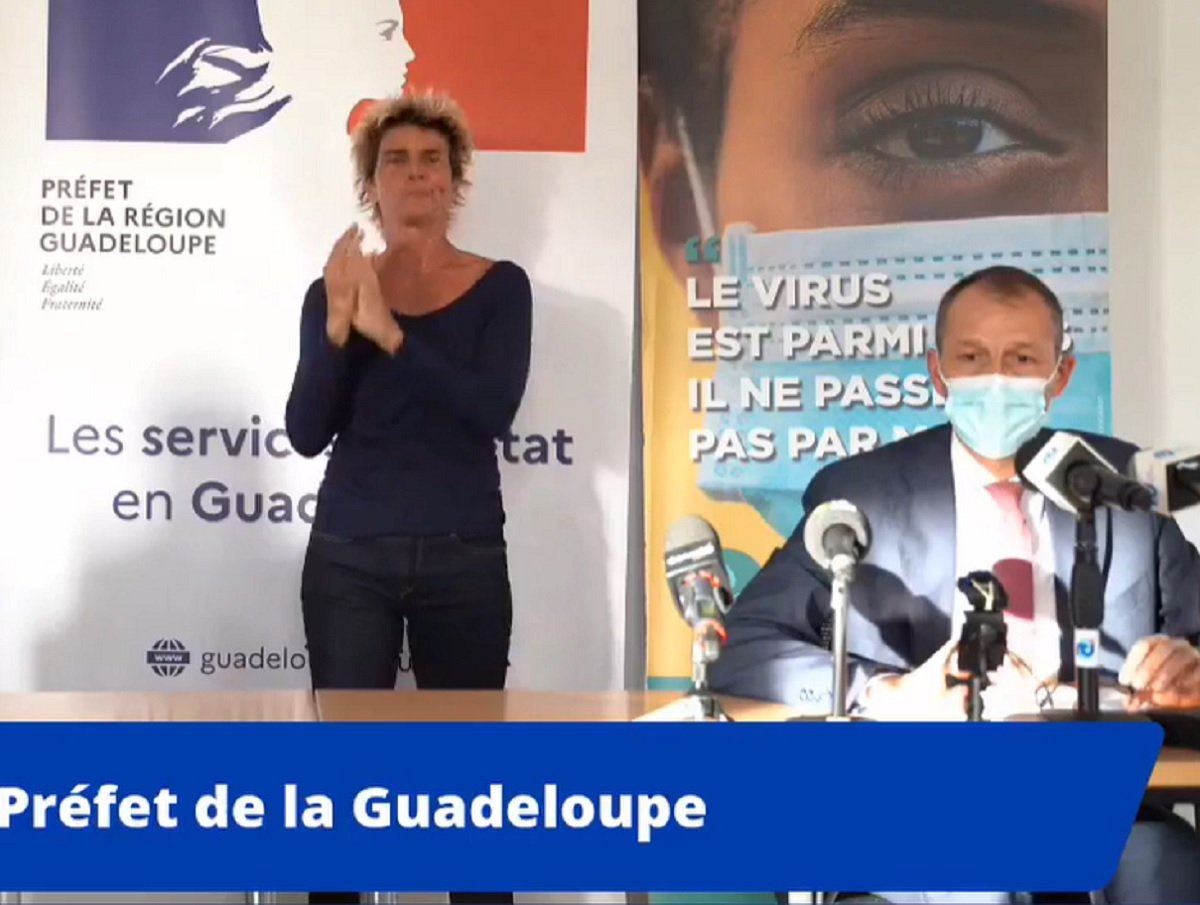with_mask: (928, 331, 1073, 443)
without_mask: (373, 136, 457, 235)
